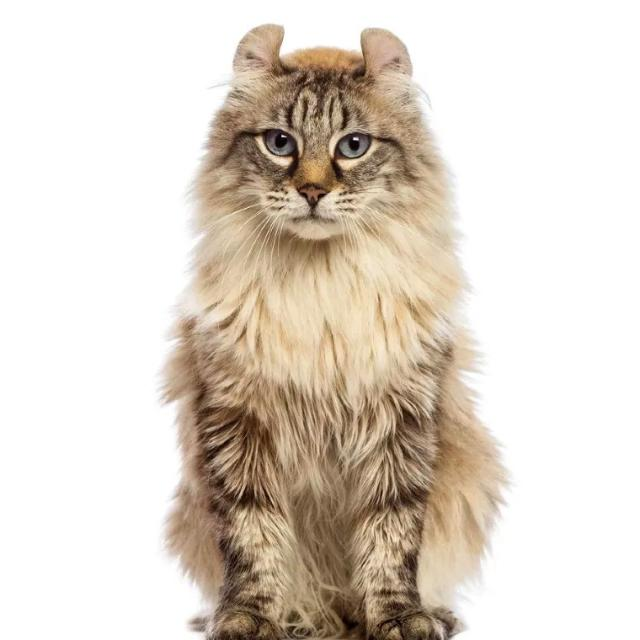American Curl: (153, 15, 516, 640)
